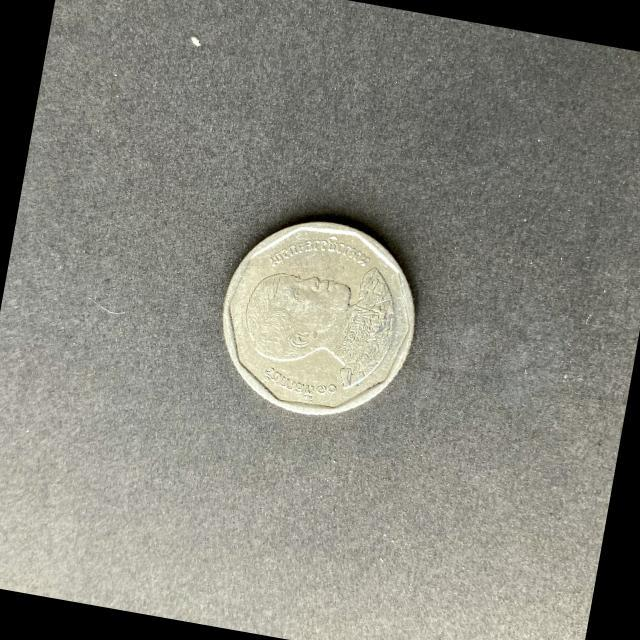5 Bath: (222, 218, 423, 423)
